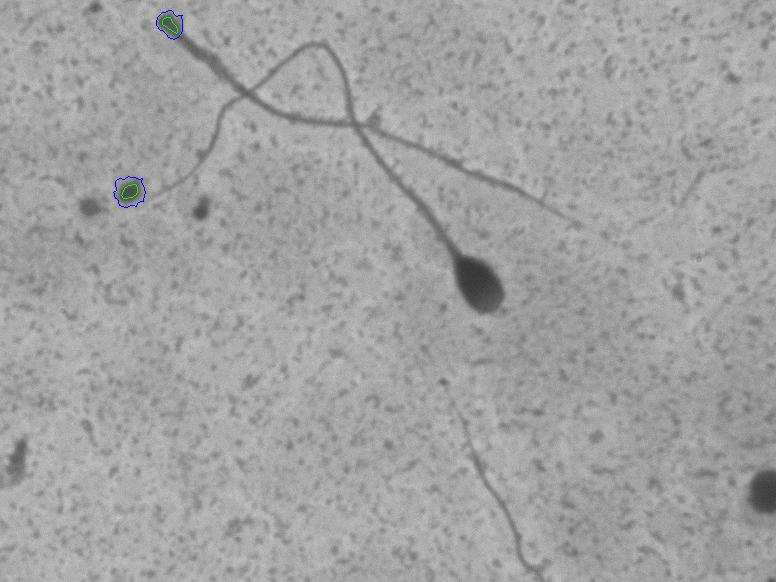Normal: (133, 27, 533, 350)
